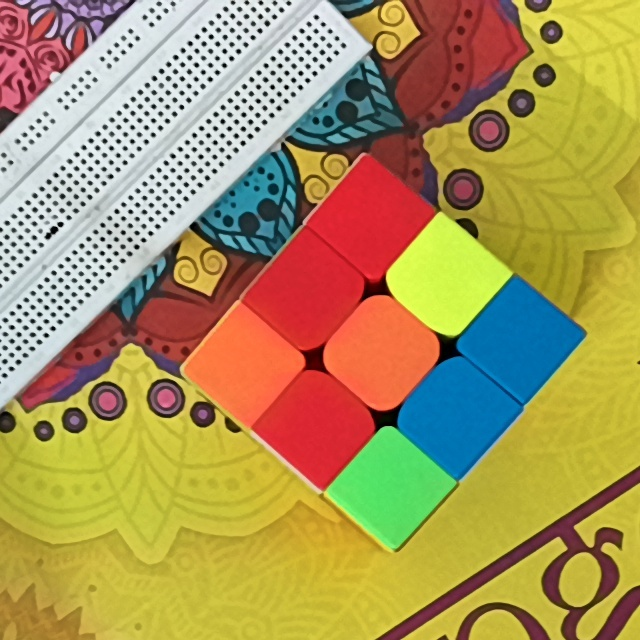tile: (350, 319, 417, 385), (281, 394, 347, 461), (412, 243, 480, 308), (426, 381, 490, 445), (211, 337, 279, 396), (488, 309, 556, 367), (274, 263, 340, 321), (357, 459, 423, 516), (338, 191, 403, 248)
